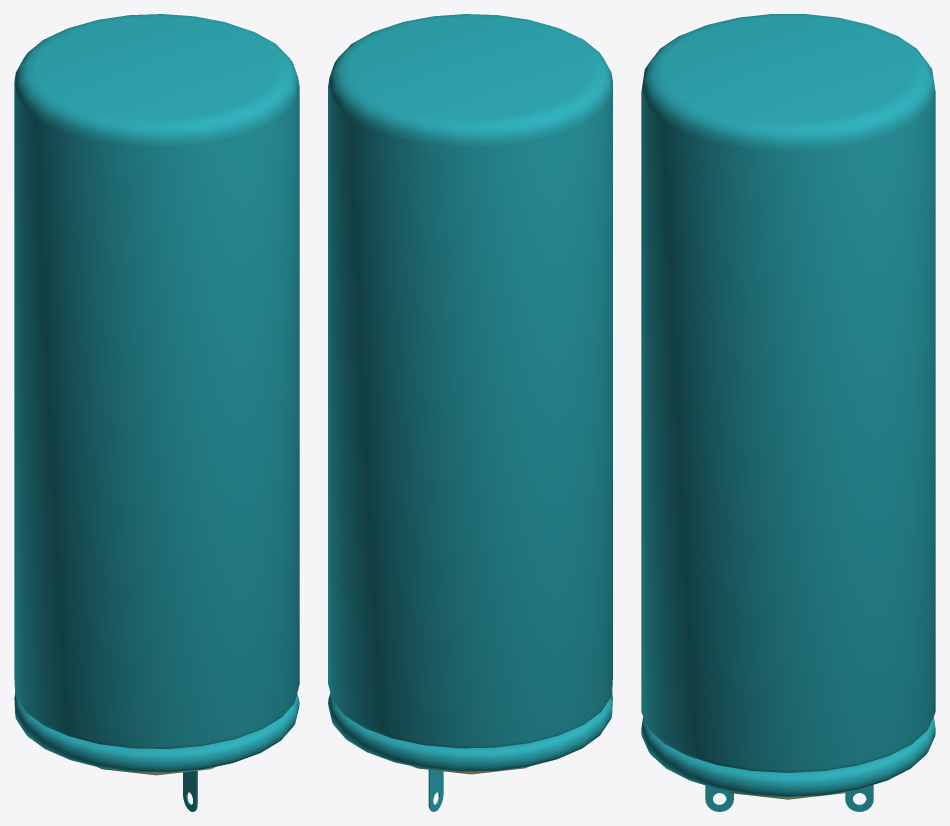
Rendered from elements026.fbx.
The picture shows the model from 3 angles, left to right: view 1: azimuth 30°, elevation 25°; view 2: azimuth 150°, elevation 25°; view 3: azimuth 270°, elevation 25°; orthographic projection. The views are drawn at different scales.
Visible parts, largest first — view 1: element026_LOD0; view 2: element026_LOD0; view 3: element026_LOD0.
Boxes of the visible parts, x1,y1,x2,y2 form: element026_LOD0: (14, 14, 299, 811); element026_LOD0: (328, 14, 612, 811); element026_LOD0: (641, 14, 935, 811).
Size of what is drawn, in the model's own units: 1.57 by 4.37 by 1.57.
